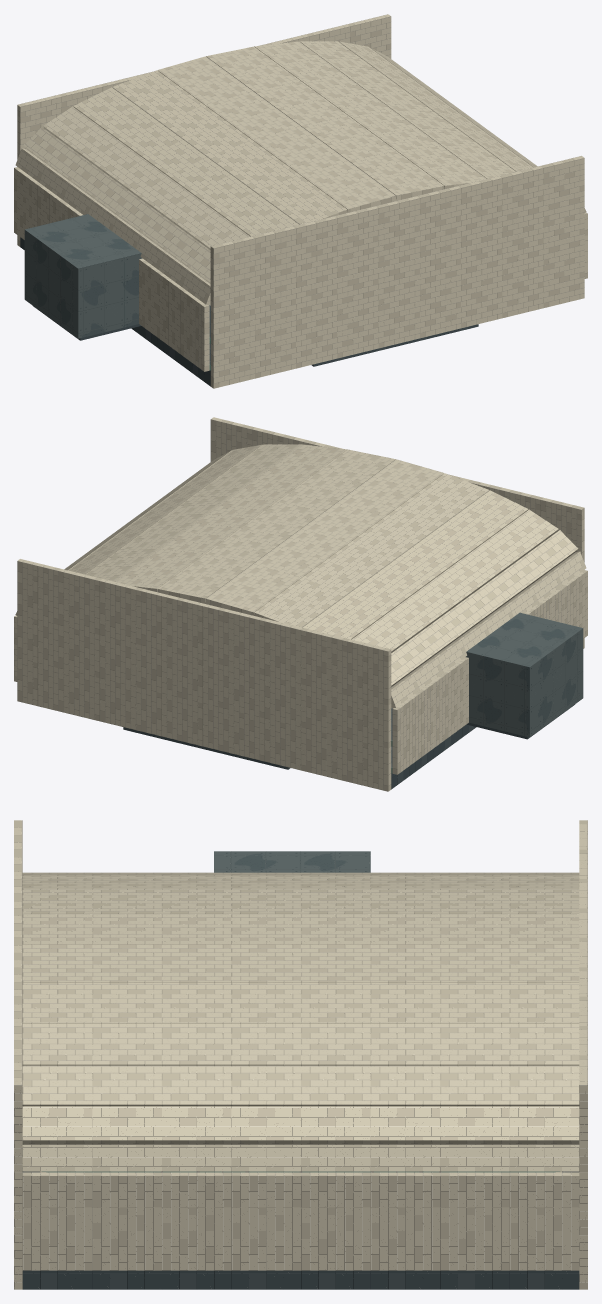
The model's file is etalon_da.glb.
3 renders of one model, top to bottom at view 1: azimuth 30°, elevation 25°; view 2: azimuth 150°, elevation 25°; view 3: azimuth 270°, elevation 25°, orthographic. The views are drawn at different scales.
Visible parts, largest first — view 1: kit_quartier_etalon_arriere, kit_quartier_etalon_fond, kit_quartier_etalon_service_plafond, kit_quartier_etalon_service_cote, kit_quartier_etalon_service_sud, kit_quartier_3_kit_mur_quai_4m_001, kit_quartier_23_kit_mur_quai_4m_001, kit_quartier_etalon_jambage_4, kit_quartier_5_kit_voute_station_4m_021, kit_quartier_5_kit_voute_station_4m_025, kit_quartier_5_kit_voute_station_4m_017, kit_quartier_5_kit_voute_station_4m_019 (+90 smaller); view 2: kit_quartier_etalon_fond, kit_quartier_etalon_arriere, kit_quartier_etalon_service_plafond, kit_quartier_etalon_service_cote, kit_quartier_etalon_service_fond, kit_quartier_23_kit_mur_quai_4m_001, kit_quartier_3_kit_mur_quai_4m_001, kit_quartier_16_kit_mur_quai_4m_001, kit_quartier_25_kit_voute_station_4m_024, kit_quartier_25_kit_voute_station_4m_028, kit_quartier_25_kit_voute_station_4m_020, kit_quartier_18_kit_voute_station_4m_018 (+90 smaller); view 3: kit_quartier_4_kit_mur_quai_4m_001, kit_quartier_24_kit_mur_quai_4m_001, kit_quartier_10_kit_mur_quai_4m_001, kit_quartier_17_kit_mur_quai_4m_001, kit_quartier_etalon_fond, kit_quartier_etalon_arriere, kit_quartier_etalon_service_plafond, kit_quartier_2_kit_quai_5x4_001, kit_quartier_22_kit_quai_5x4_001, kit_quartier_9_kit_quai_5x4_001, kit_quartier_15_kit_quai_5x4_001, kit_quartier_5_kit_voute_station_4m_033 (+127 smaller).
Part boxes in pixels (bbox=[...]): kit_quartier_etalon_arriere: bbox=[210, 156, 584, 388]; kit_quartier_etalon_fond: bbox=[17, 14, 391, 246]; kit_quartier_etalon_service_plafond: bbox=[24, 214, 142, 273]; kit_quartier_etalon_service_cote: bbox=[24, 235, 83, 338]; kit_quartier_etalon_service_sud: bbox=[83, 259, 138, 337]; kit_quartier_3_kit_mur_quai_4m_001: bbox=[157, 271, 209, 371]; kit_quartier_23_kit_mur_quai_4m_001: bbox=[14, 167, 64, 239]; kit_quartier_etalon_jambage_4: bbox=[139, 258, 159, 336]; kit_quartier_5_kit_voute_station_4m_021: bbox=[336, 187, 396, 212]; kit_quartier_5_kit_voute_station_4m_025: bbox=[384, 177, 444, 200]; kit_quartier_5_kit_voute_station_4m_017: bbox=[291, 201, 347, 224]; kit_quartier_5_kit_voute_station_4m_019: bbox=[267, 183, 323, 209]; kit_quartier_etalon_fond: bbox=[17, 559, 391, 791]; kit_quartier_etalon_arriere: bbox=[210, 417, 584, 648]; kit_quartier_etalon_service_plafond: bbox=[466, 612, 583, 672]; kit_quartier_etalon_service_cote: bbox=[524, 634, 583, 737]; kit_quartier_etalon_service_fond: bbox=[469, 658, 524, 735]; kit_quartier_23_kit_mur_quai_4m_001: bbox=[392, 674, 444, 774]; kit_quartier_3_kit_mur_quai_4m_001: bbox=[537, 570, 587, 638]; kit_quartier_16_kit_mur_quai_4m_001: bbox=[442, 657, 468, 739]; kit_quartier_25_kit_voute_station_4m_024: bbox=[205, 590, 265, 615]; kit_quartier_25_kit_voute_station_4m_028: bbox=[157, 580, 217, 603]; kit_quartier_25_kit_voute_station_4m_020: bbox=[254, 604, 310, 627]; kit_quartier_18_kit_voute_station_4m_018: bbox=[326, 551, 382, 577]; kit_quartier_4_kit_mur_quai_4m_001: bbox=[22, 1172, 161, 1270]; kit_quartier_24_kit_mur_quai_4m_001: bbox=[440, 1172, 579, 1270]; kit_quartier_10_kit_mur_quai_4m_001: bbox=[162, 1172, 300, 1270]; kit_quartier_17_kit_mur_quai_4m_001: bbox=[301, 1172, 439, 1270]; kit_quartier_etalon_fond: bbox=[579, 820, 587, 1289]; kit_quartier_etalon_arriere: bbox=[14, 820, 22, 1289]; kit_quartier_etalon_service_plafond: bbox=[214, 851, 370, 872]; kit_quartier_2_kit_quai_5x4_001: bbox=[22, 1270, 161, 1289]; kit_quartier_22_kit_quai_5x4_001: bbox=[440, 1270, 579, 1289]; kit_quartier_9_kit_quai_5x4_001: bbox=[162, 1270, 300, 1289]; kit_quartier_15_kit_quai_5x4_001: bbox=[301, 1270, 439, 1289]; kit_quartier_5_kit_voute_station_4m_033: bbox=[22, 1023, 57, 1065].
Bounding box in the file's own units: 21.55 × 7 × 16.5.
10 materials, 6 textured.
